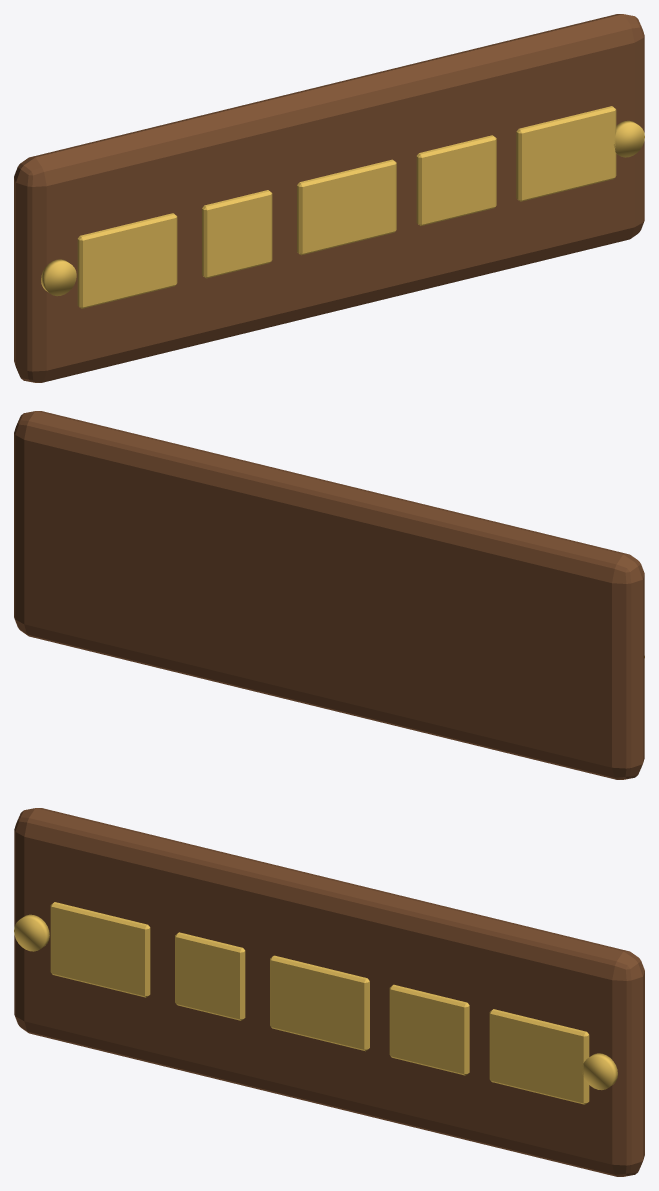
Rendered from nameplate.glb.
The picture shows the model from 3 angles, top to bottom: view 1: azimuth 30°, elevation 25°; view 2: azimuth 150°, elevation 25°; view 3: azimuth 330°, elevation 25°; orthographic projection.
Parts seen in each view (by area): view 1: plaque, letter, letter.004, letter.002, letter.003, letter.001, screw, screw.001; view 2: plaque; view 3: plaque, letter, letter.002, letter.004, letter.003, letter.001, screw, screw.001.
Part boxes in pixels (x1,y1,x2,y2): plaque: [14, 14, 644, 382]; letter: [77, 213, 177, 308]; letter.004: [516, 106, 616, 201]; letter.002: [297, 159, 396, 255]; letter.003: [416, 135, 496, 225]; letter.001: [202, 190, 272, 278]; screw: [41, 259, 76, 296]; screw.001: [614, 120, 644, 157]; plaque: [14, 411, 644, 779]; plaque: [14, 808, 644, 1176]; letter: [50, 902, 150, 997]; letter.002: [270, 955, 369, 1051]; letter.004: [489, 1009, 589, 1104]; letter.003: [389, 984, 469, 1075]; letter.001: [175, 932, 245, 1020]; screw: [14, 914, 49, 951]; screw.001: [582, 1053, 617, 1090].
Size of the model in its own units: 0.32 by 0.11 by 0.024.
